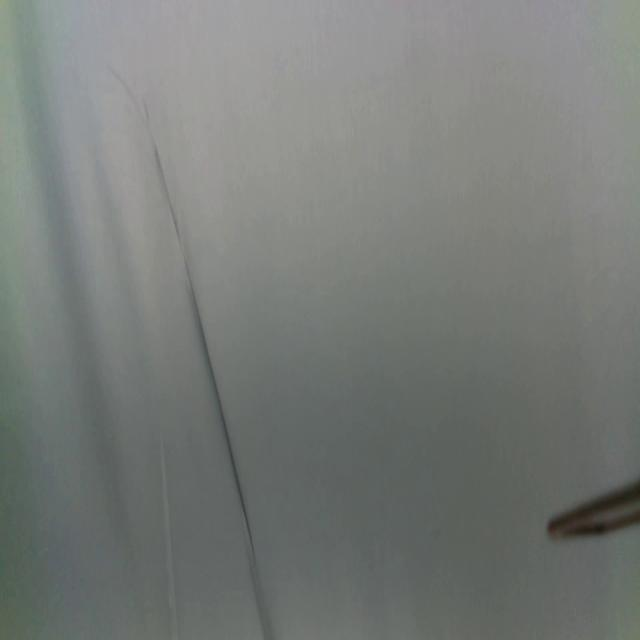crease: (110, 66, 272, 640), (158, 431, 178, 640)
